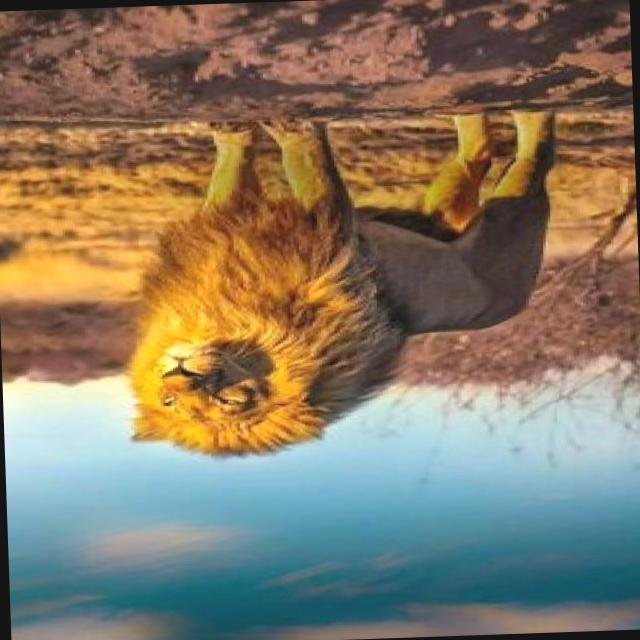lions: (26, 35, 634, 551)
